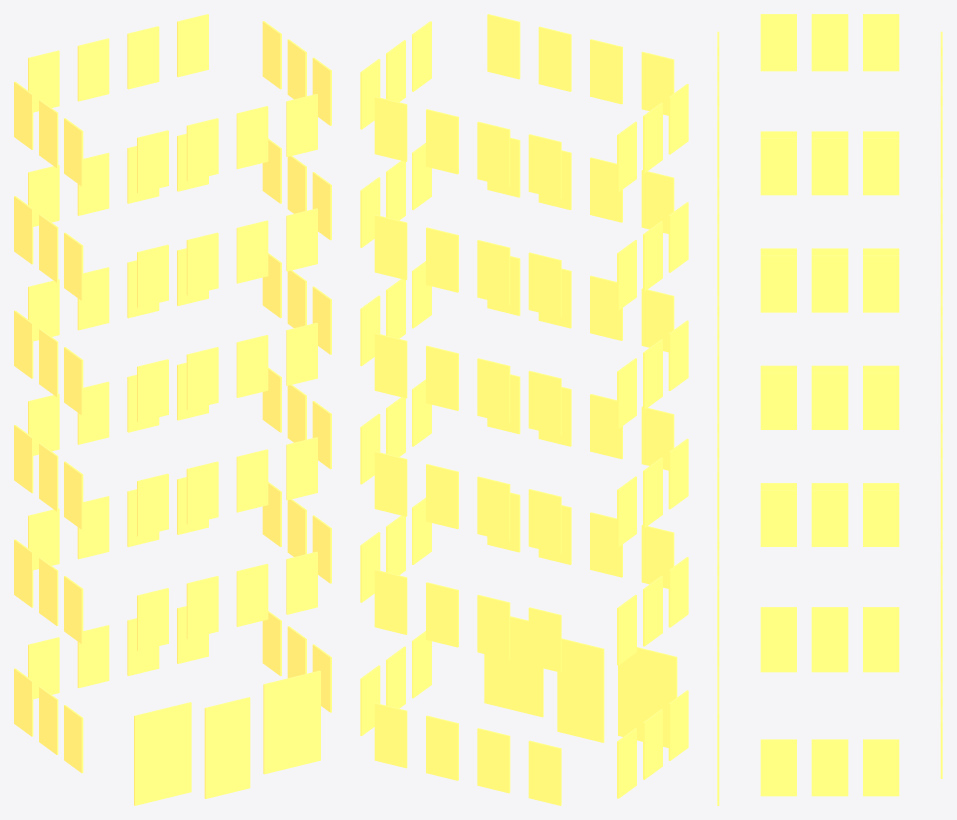
The model's file is Apartment_Plum_Glow.glb.
3 views of the same model, side by side, from view 1: azimuth 30°, elevation 25°; view 2: azimuth 150°, elevation 25°; view 3: azimuth 270°, elevation 25° (orthographic). The views are drawn at different scales.
Visible parts, largest first — view 1: Apartment_Plum_Glow; view 2: Apartment_Plum_Glow; view 3: Apartment_Plum_Glow.
Boxes of the visible parts, x1=… form: Apartment_Plum_Glow: x1=14, y1=14, x2=331, y2=805; Apartment_Plum_Glow: x1=360, y1=14, x2=688, y2=805; Apartment_Plum_Glow: x1=717, y1=14, x2=942, y2=805.
Bounding box in the file's own units: 25.16 × 65.1 × 19.16.
